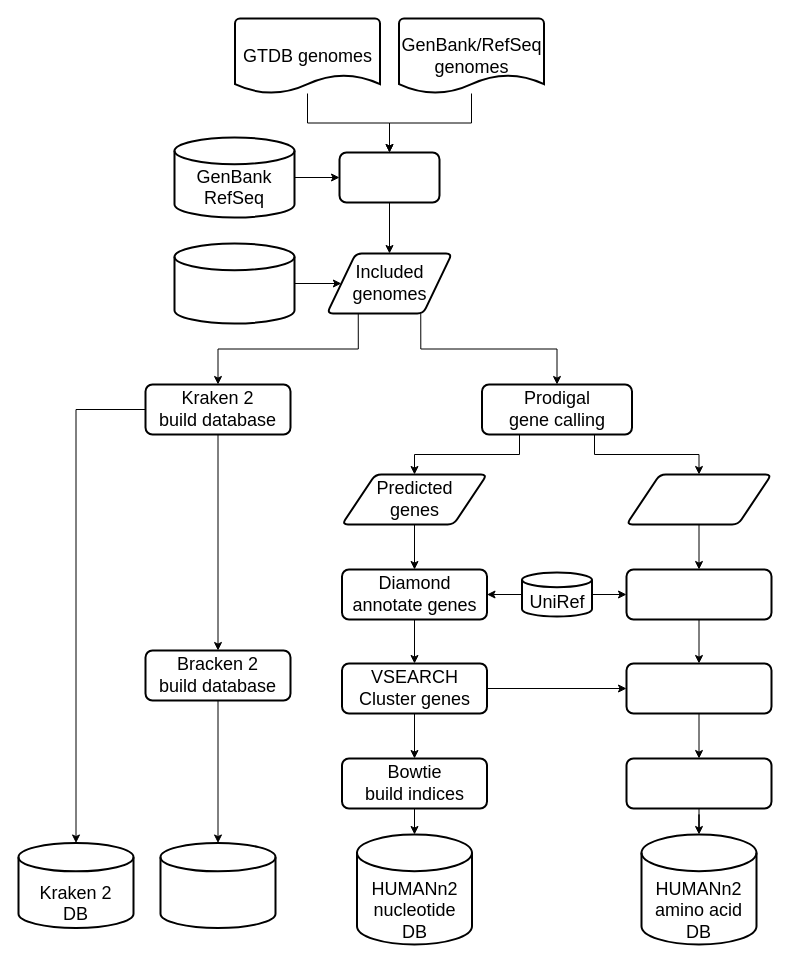
The diagram is 789 pixels wide and 962 high, and some of its shapes have lost their labels. Each missing label, with the box of its shape:
Bracken 2 DB: (159, 842, 276, 928)
Diamond annotate proteins: (625, 568, 772, 620)
Diamond build database: (625, 757, 772, 809)
Genome Download: (338, 151, 440, 203)
Predicted proteins: (625, 473, 772, 525)
Subset representatives: (625, 662, 772, 714)
User-provided genomes: (173, 242, 295, 324)
